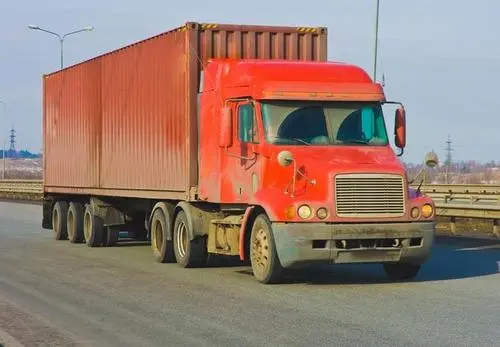bigtruck: (19, 12, 446, 302)
